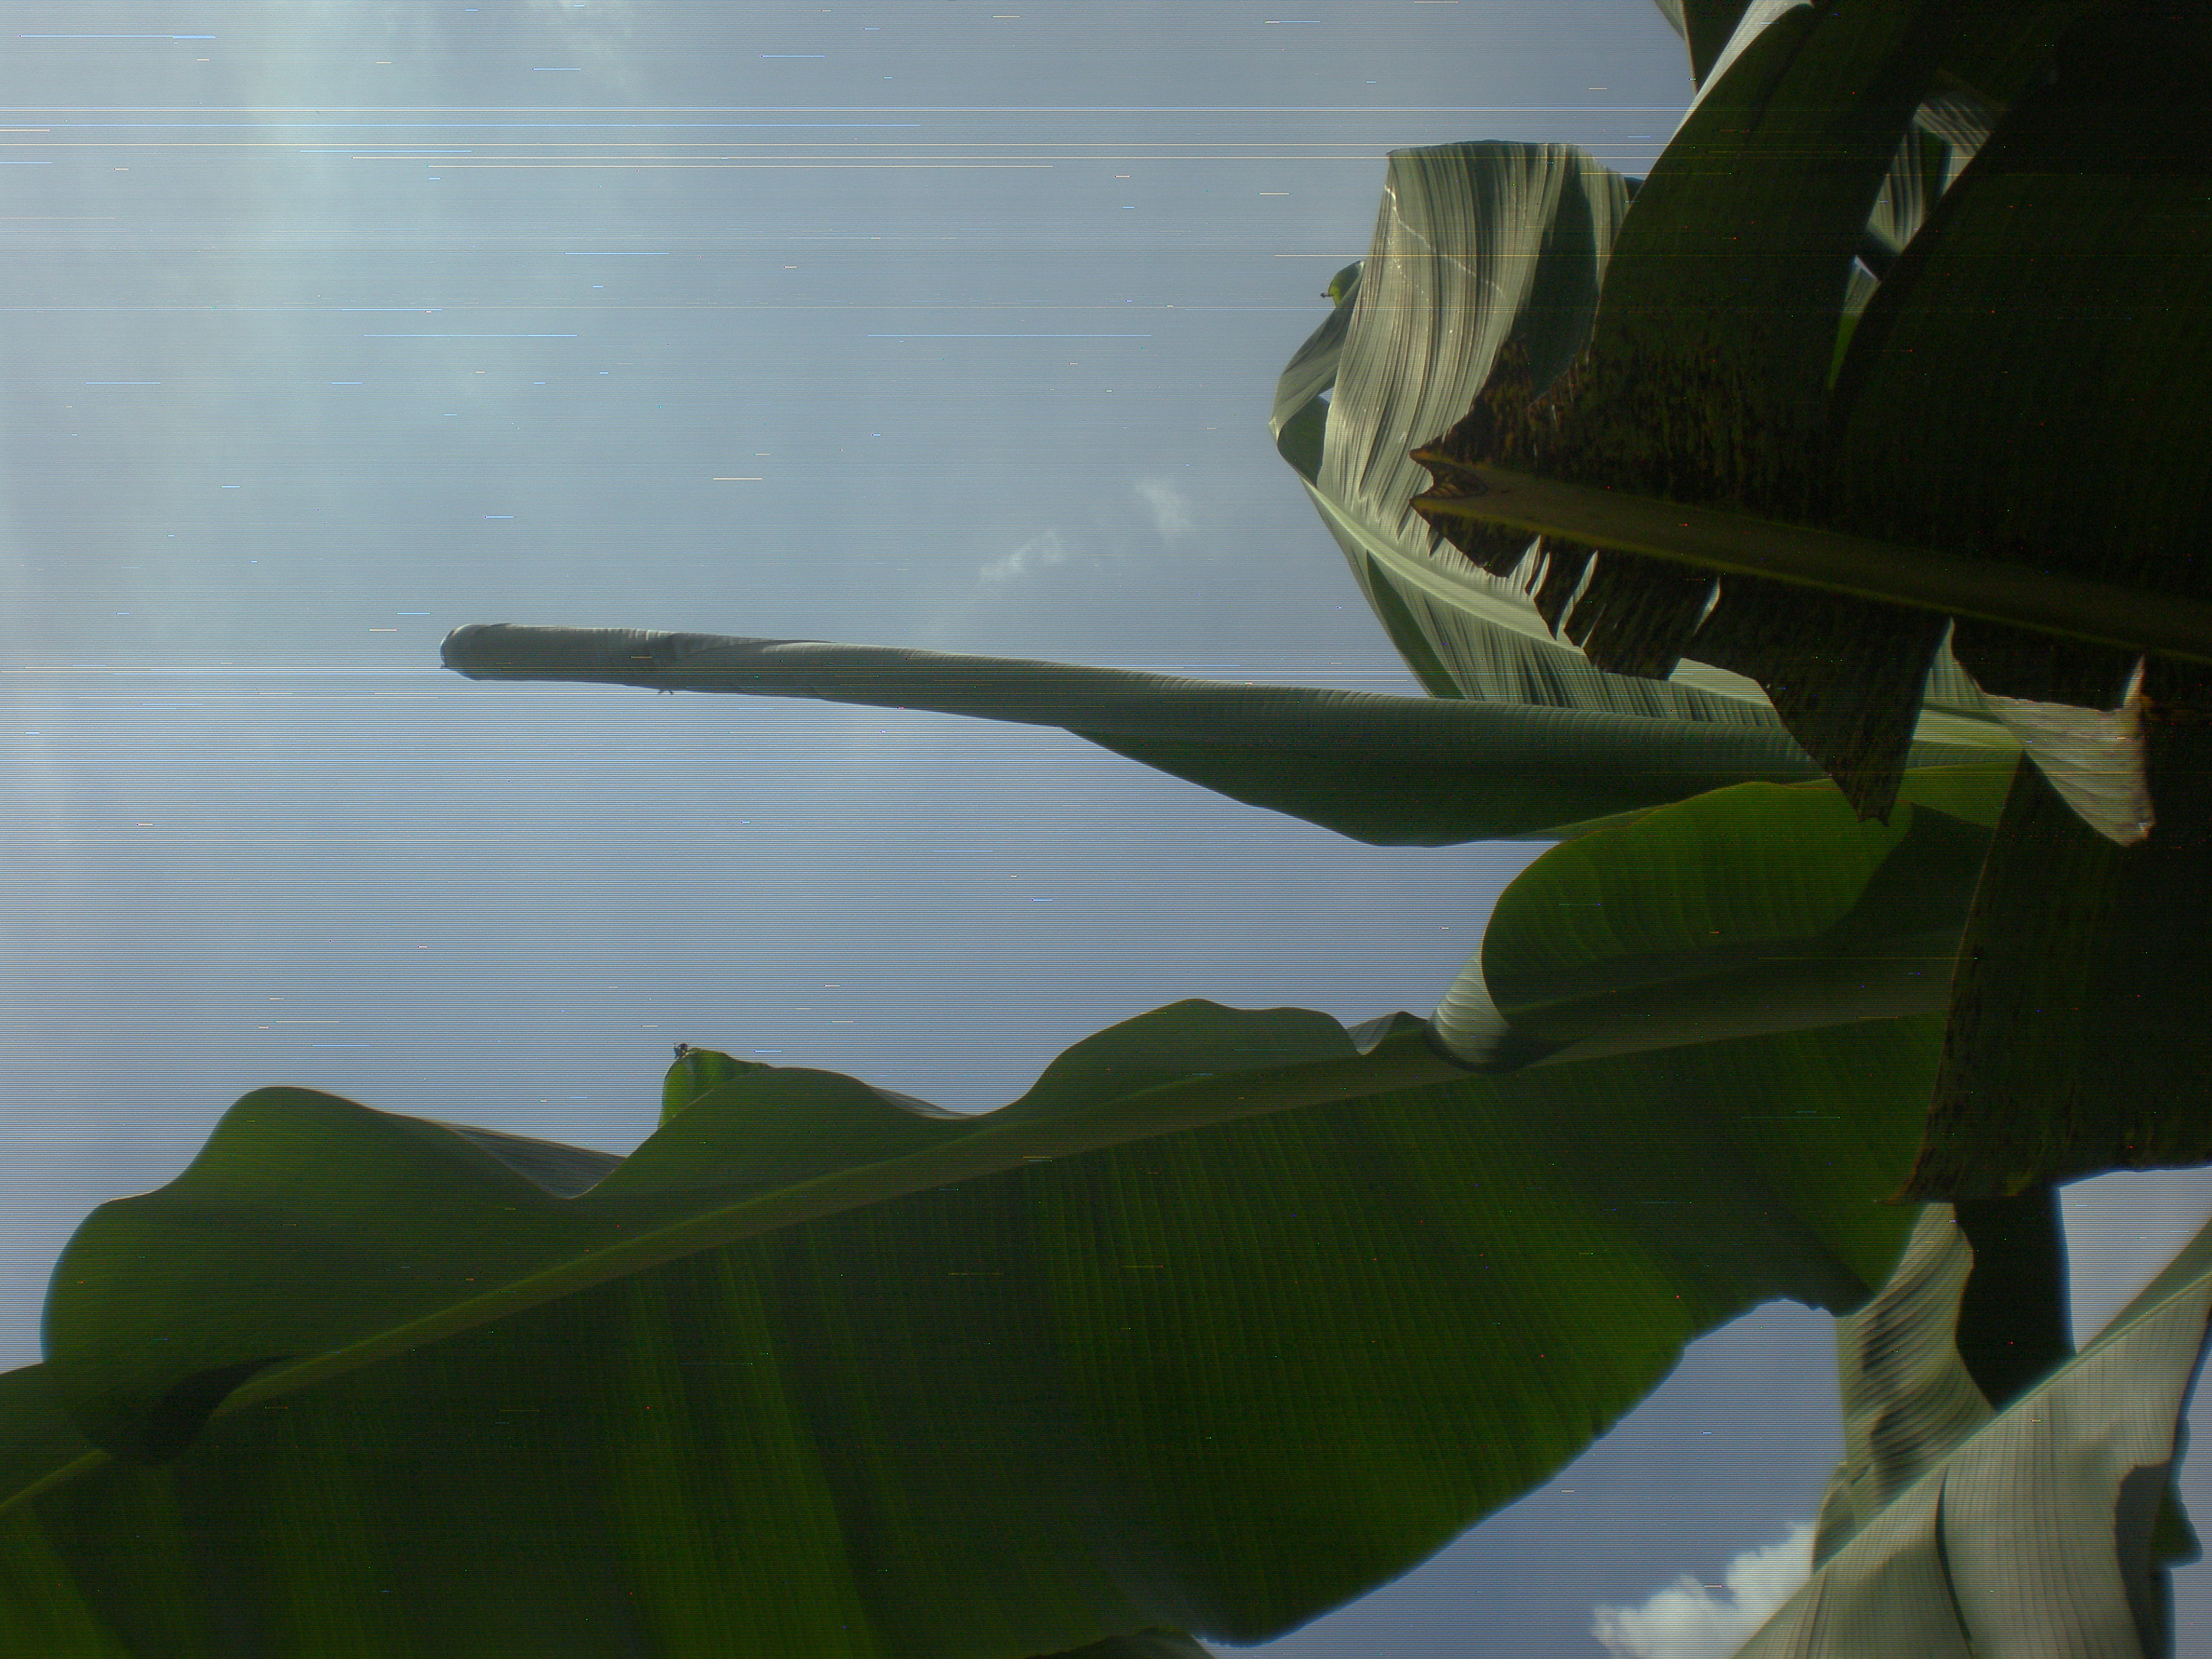candleleafs: (435, 619, 1536, 859)
